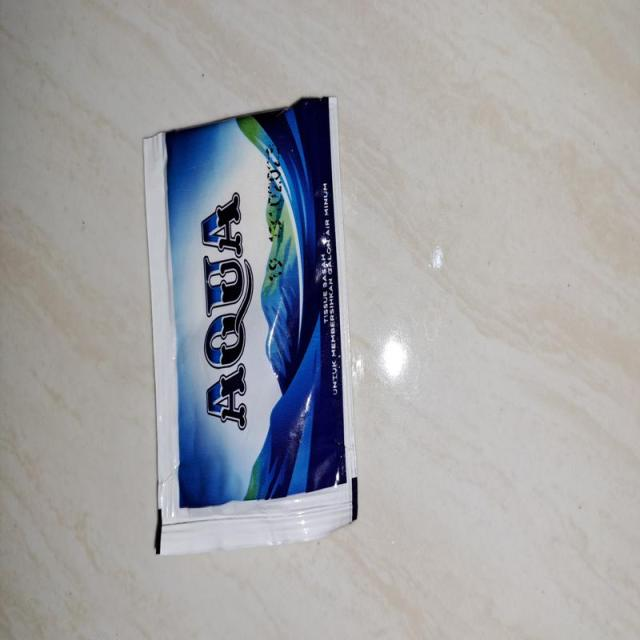Anorganik: (125, 90, 367, 552)
